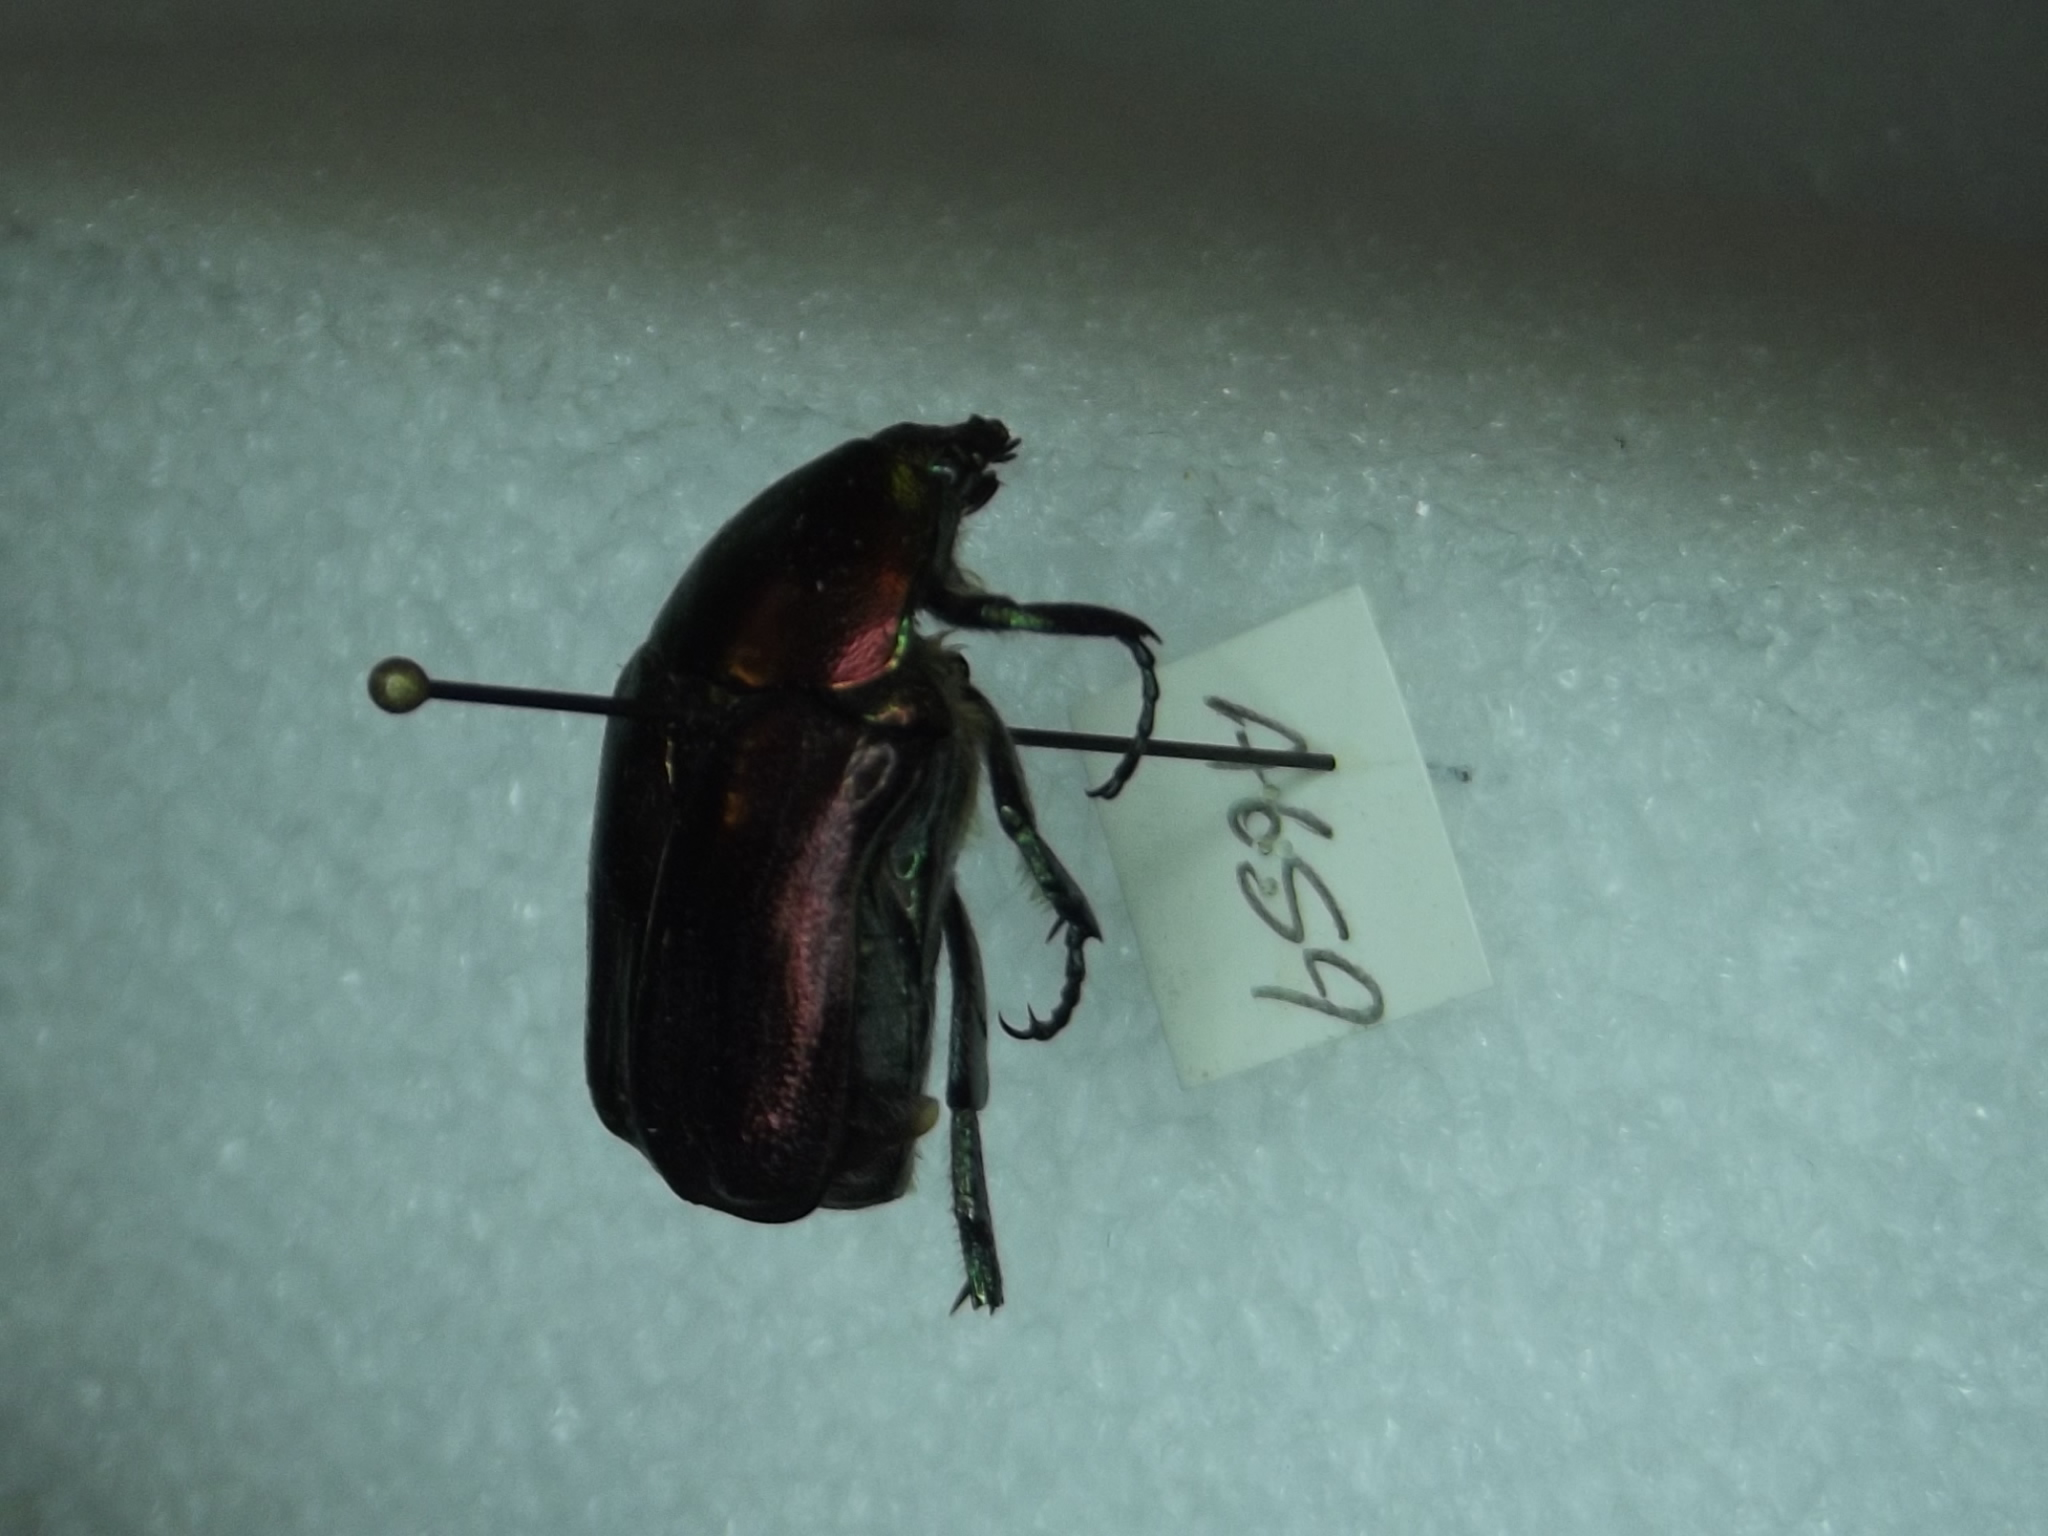Protaetia_cuprea_ignicollis: (548, 339, 1247, 1338)
